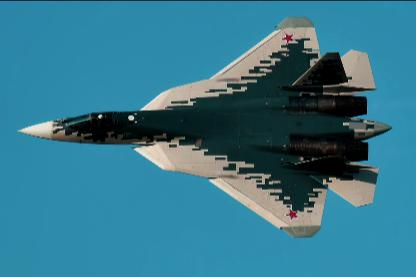SR71: (16, 15, 392, 236)
